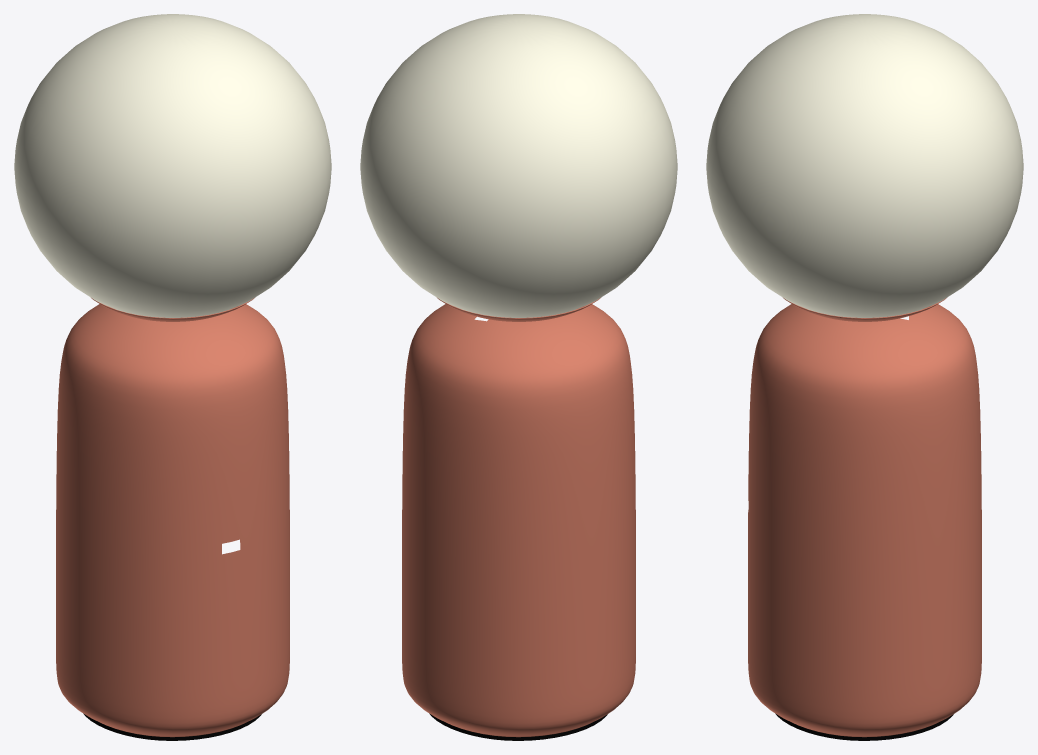
Rendered from notti-cordless.glb.
3 views of the same model, side by side, from view 1: azimuth 30°, elevation 25°; view 2: azimuth 150°, elevation 25°; view 3: azimuth 270°, elevation 25° (orthographic).
Visible parts, largest first — view 1: metal-body-0, diffuser-27, metal-body-16, metal-body-26, metal-body-14, metal-body-12, led-collar-28; view 2: diffuser-27, metal-body-16, metal-body-0, metal-body-14, led-collar-28; view 3: diffuser-27, metal-body-16, metal-body-0, metal-body-14, metal-body-12, led-collar-28.
Boxes of the visible parts, x1=… form: metal-body-0: x1=56, y1=325, x2=289, y2=730; diffuser-27: x1=14, y1=14, x2=331, y2=317; metal-body-16: x1=68, y1=304, x2=273, y2=353; metal-body-26: x1=142, y1=358, x2=281, y2=668; metal-body-14: x1=62, y1=317, x2=279, y2=358; metal-body-12: x1=86, y1=670, x2=289, y2=737; led-collar-28: x1=91, y1=298, x2=254, y2=321; diffuser-27: x1=360, y1=14, x2=677, y2=317; metal-body-16: x1=402, y1=304, x2=603, y2=736; metal-body-0: x1=403, y1=304, x2=635, y2=732; metal-body-14: x1=402, y1=306, x2=608, y2=736; led-collar-28: x1=437, y1=298, x2=600, y2=321; diffuser-27: x1=706, y1=14, x2=1023, y2=317; metal-body-16: x1=789, y1=304, x2=981, y2=725; metal-body-0: x1=748, y1=304, x2=975, y2=736; metal-body-14: x1=784, y1=307, x2=980, y2=737; metal-body-12: x1=760, y1=686, x2=849, y2=726; led-collar-28: x1=783, y1=298, x2=946, y2=321.
Bounding box in the file's own units: 0.1516 × 0.3544 × 0.1516.
